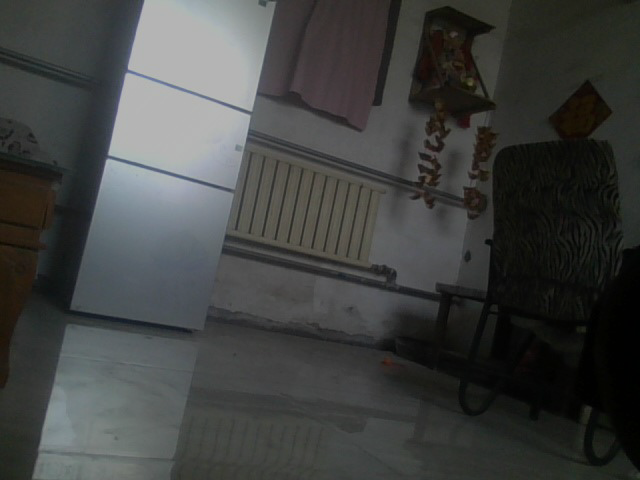ball: (380, 355, 387, 361)
